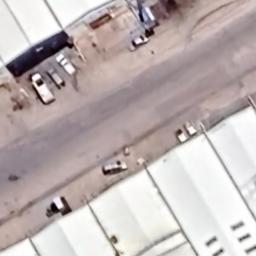pickup: (55, 50, 76, 76)
sedan: (100, 158, 128, 176), (127, 32, 150, 52)
truck: (30, 72, 57, 104)
